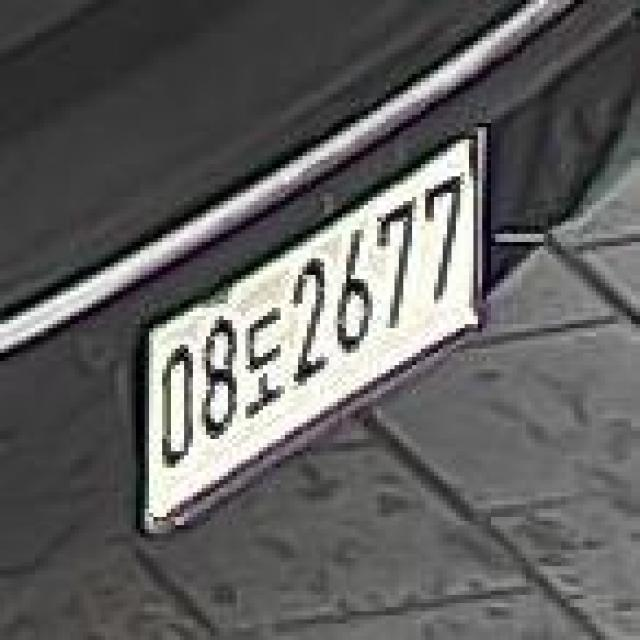illegal_plate: (135, 130, 486, 530)
